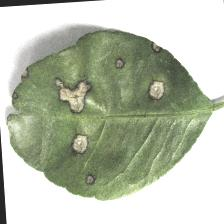canker: (9, 36, 176, 198)
